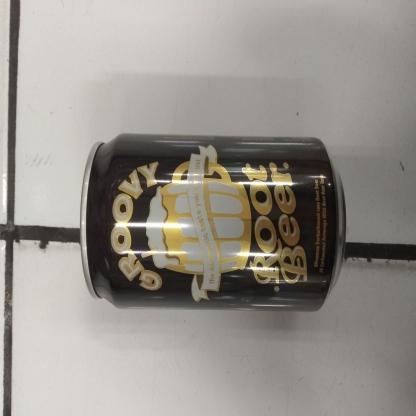can: (76, 126, 348, 318)
